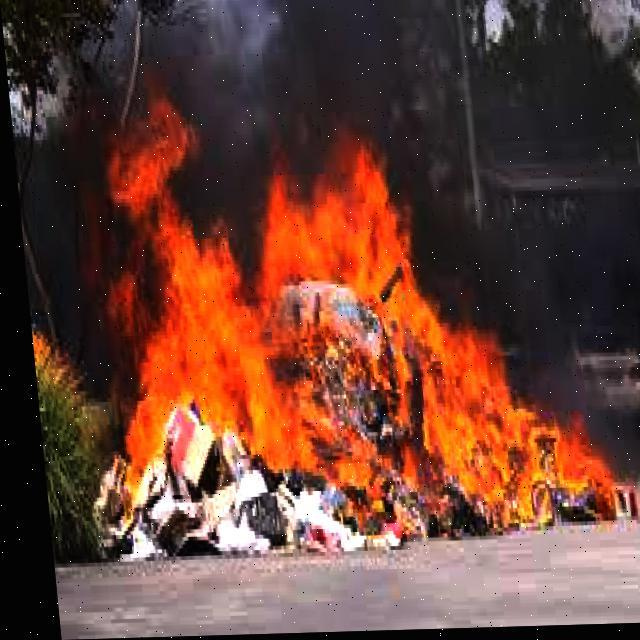Fire: (272, 104, 620, 526), (65, 120, 288, 479)
